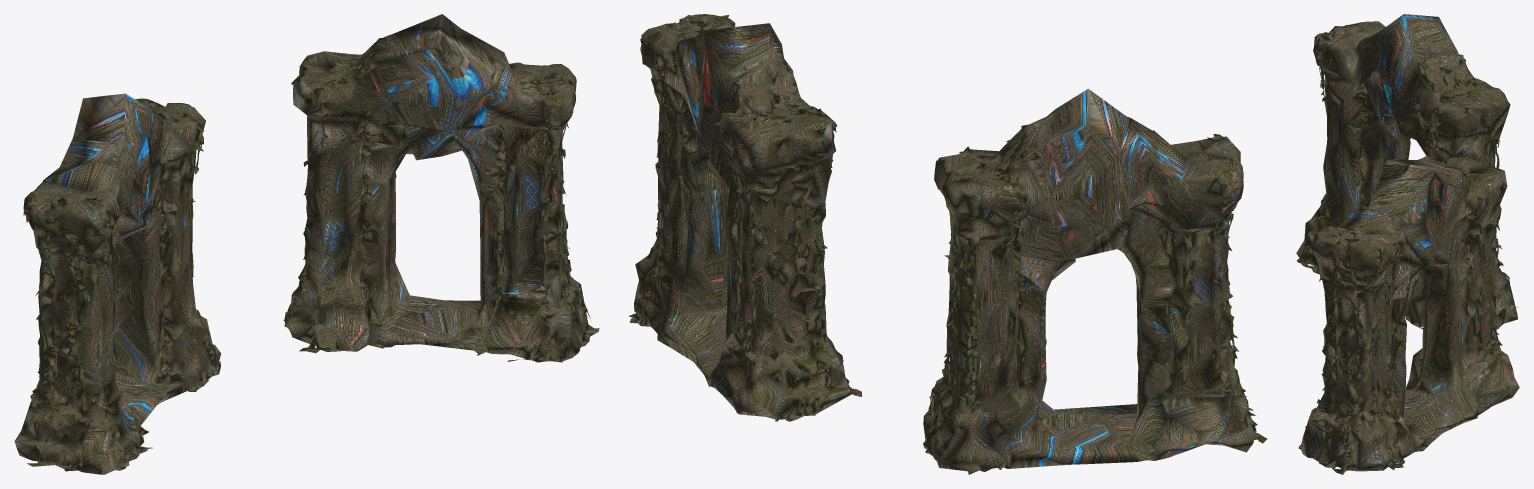
File: tor.glb
3 renders of one model, left to right at view 1: azimuth 30°, elevation 25°; view 2: azimuth 150°, elevation 25°; view 3: azimuth 270°, elevation 25°, orthographic. The views are drawn at different scales.
Size of the model in its own units: 1.86 by 0.989 by 0.7265.
1 material, 1 textured.
